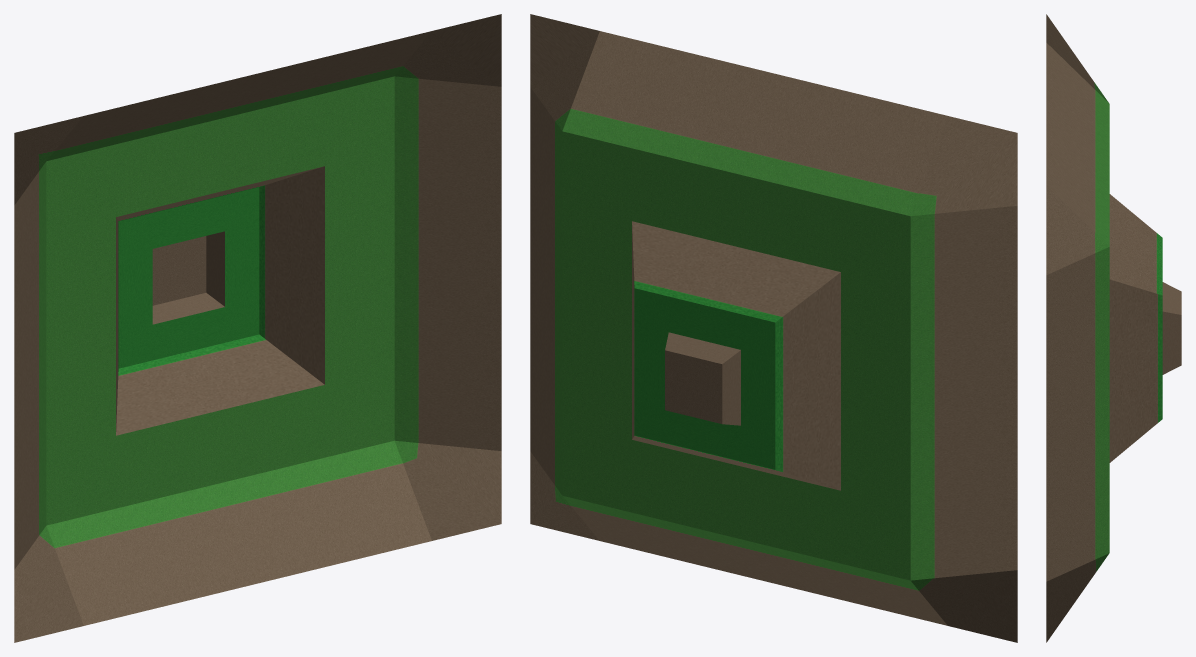
Rendered from green_land_5.FBX.
3 views of the same model, side by side, from view 1: azimuth 30°, elevation 25°; view 2: azimuth 150°, elevation 25°; view 3: azimuth 270°, elevation 25° (orthographic). The views are drawn at different scales.
Parts seen in each view (by area): view 1: Plane; view 2: Plane; view 3: Plane.
Boxes of the visible parts, x1,y1,x2,y2 form: Plane: [14, 14, 501, 642]; Plane: [530, 14, 1017, 642]; Plane: [1046, 14, 1181, 642].
Bounding box in the file's own units: 2355 × 2355 × 672.
